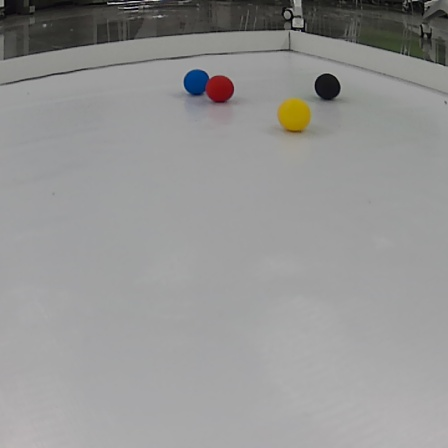black: (314, 72, 342, 101)
blue: (181, 67, 212, 97)
red: (205, 74, 234, 105)
yellow: (278, 96, 313, 133)
